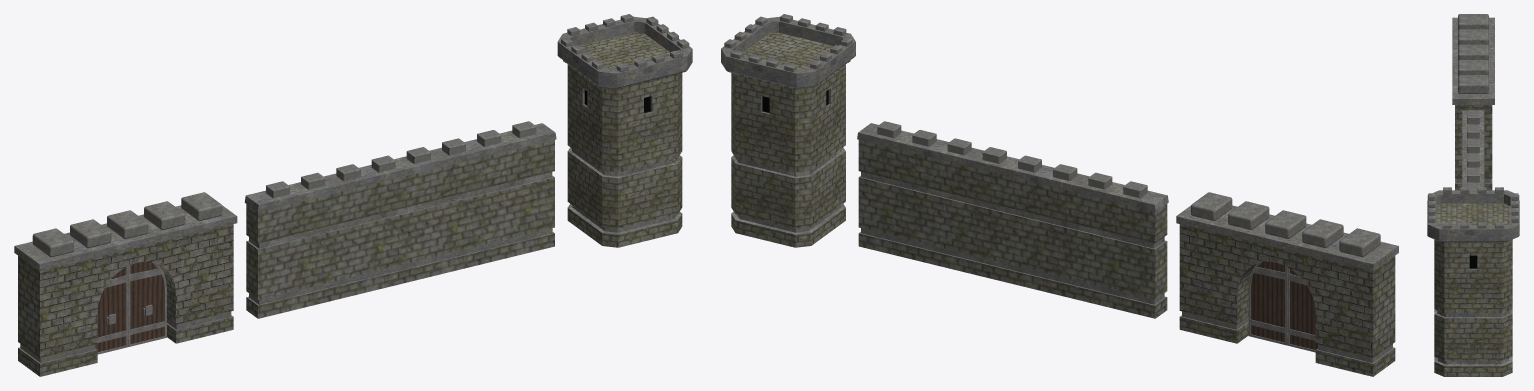
The model's file is walls.glb.
3 renders of one model, left to right at view 1: azimuth 30°, elevation 25°; view 2: azimuth 150°, elevation 25°; view 3: azimuth 270°, elevation 25°, orthographic. The views are drawn at different scales.
Parts seen in each view (by area): view 1: Wall_Wall_0, Tower_Tower_0, Wall001_Wall01_0, Door_L_Door_0, Door_R_Door_0; view 2: Wall_Wall_0, Tower_Tower_0, Wall001_Wall01_0, Door_L_Door_0, Door_R_Door_0; view 3: Tower_Tower_0, Wall001_Wall01_0, Wall_Wall_0.
Part boxes in pixels (left/top/right/bottom): Wall_Wall_0: left=244, top=121, right=556, bottom=318; Tower_Tower_0: left=557, top=14, right=692, bottom=247; Wall001_Wall01_0: left=14, top=192, right=237, bottom=376; Door_L_Door_0: left=128, top=261, right=166, bottom=346; Door_R_Door_0: left=95, top=266, right=128, bottom=354; Wall_Wall_0: left=857, top=121, right=1168, bottom=318; Tower_Tower_0: left=721, top=14, right=855, bottom=247; Wall001_Wall01_0: left=1176, top=192, right=1398, bottom=376; Door_L_Door_0: left=1248, top=261, right=1287, bottom=345; Door_R_Door_0: left=1287, top=267, right=1317, bottom=352; Tower_Tower_0: left=1427, top=187, right=1519, bottom=376; Wall001_Wall01_0: left=1452, top=14, right=1494, bottom=190; Wall_Wall_0: left=1462, top=110, right=1484, bottom=190.
Size of the model in its own units: 25.88 by 7.01 by 3.79.
Materials: 4 (4 with a texture image).
